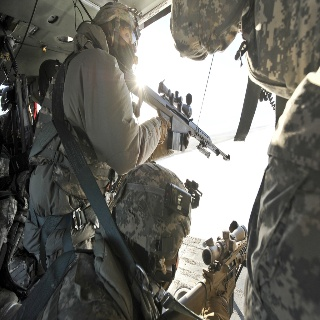rifle: (125, 73, 234, 163), (152, 220, 250, 320)
